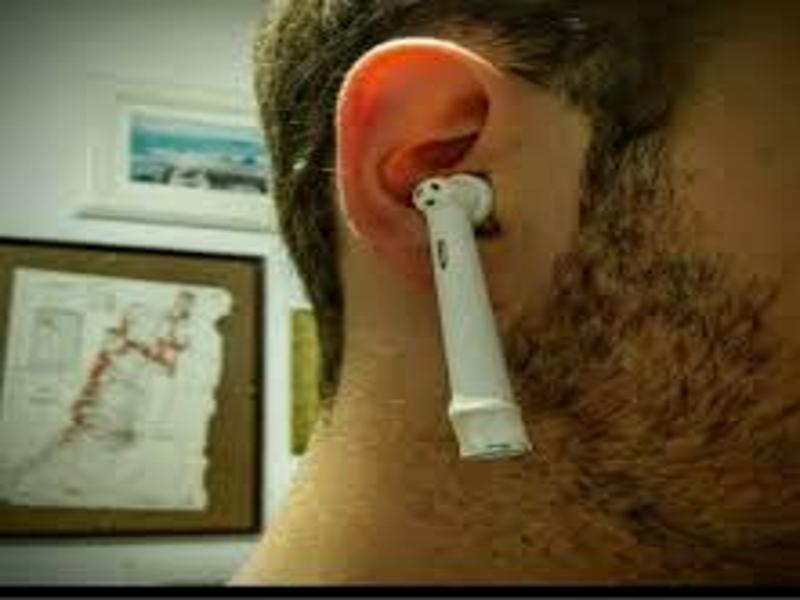headphone: (411, 170, 533, 458)
